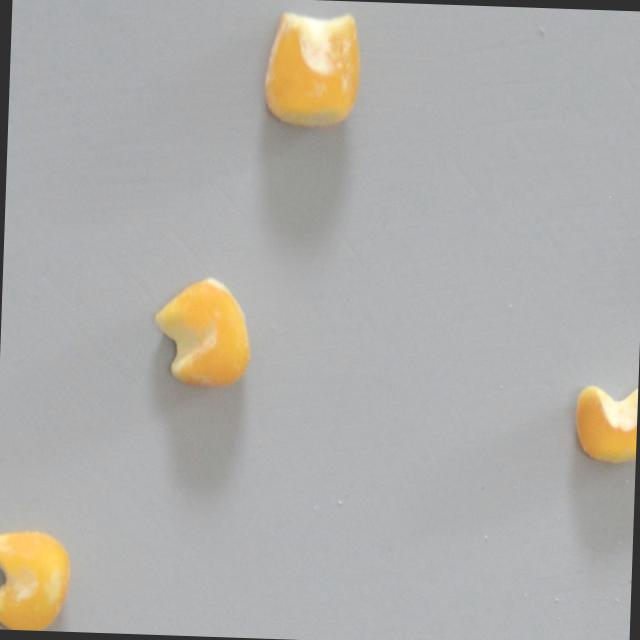no_canjicado: (153, 278, 254, 389), (573, 380, 638, 465)
pelicula: (263, 10, 361, 127), (0, 528, 73, 631)
